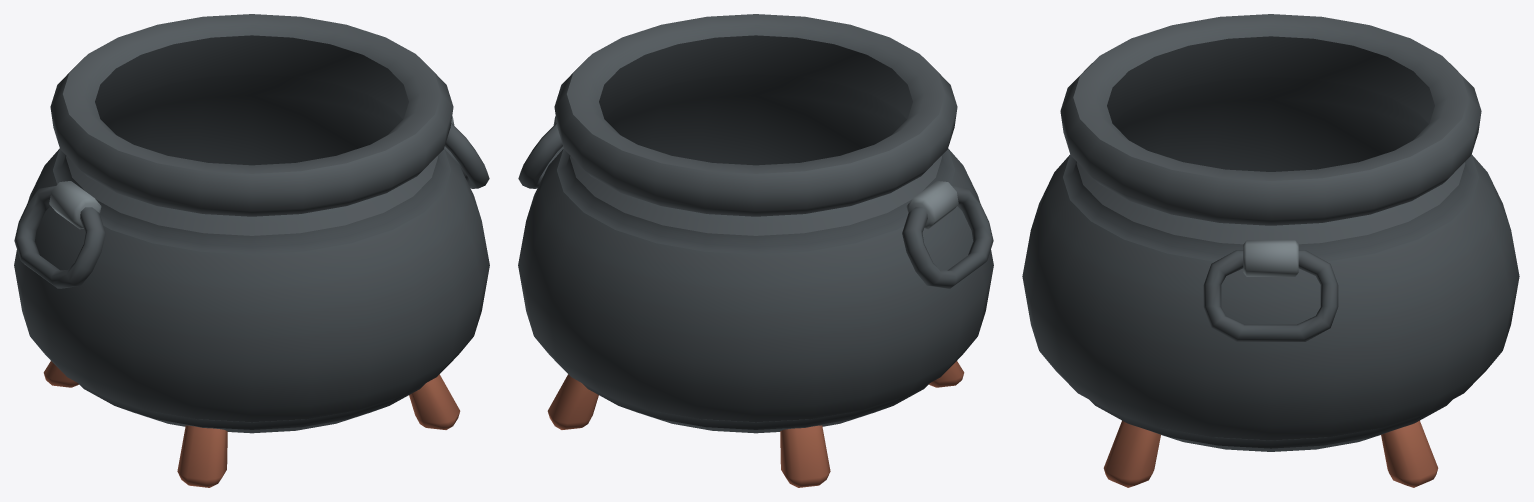
File: Cauldron.obj
3 renders of one model, left to right at view 1: azimuth 30°, elevation 25°; view 2: azimuth 150°, elevation 25°; view 3: azimuth 270°, elevation 25°, orthographic. The views are drawn at different scales.
Parts seen in each view (by area): view 1: Cauldron; view 2: Cauldron; view 3: Cauldron.
Boxes of the visible parts, x1=… form: Cauldron: x1=14, y1=14, x2=489, y2=487; Cauldron: x1=518, y1=14, x2=993, y2=487; Cauldron: x1=1022, y1=14, x2=1519, y2=487.
Bounding box in the file's own units: 1.24 × 0.85 × 1.18.
Materials: 1 (1 with a texture image).
